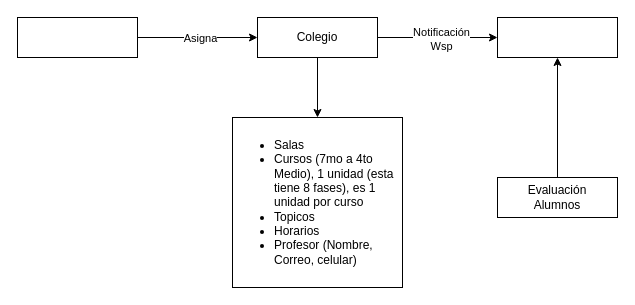
Some shapes in this 635 by 305 pixel diagram are drawn without their labels. The shapes that lost their labels are listed below. From the top down, each one's centre as x and y in pixels, then its label:
At [77,37]: "Coordinador".
At [557,37]: "Monitor".
